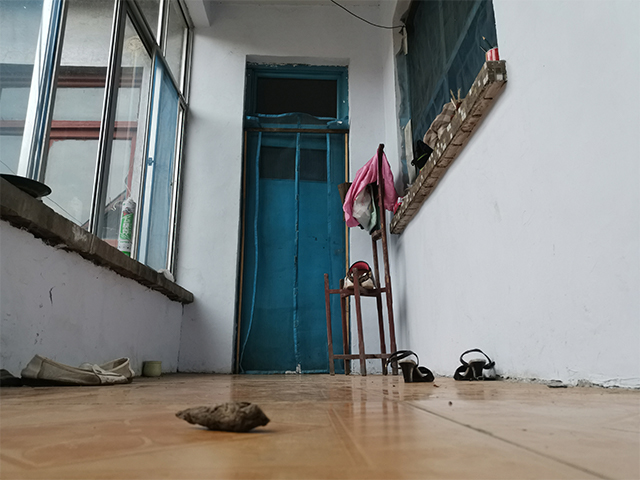feces: (173, 400, 274, 434)
